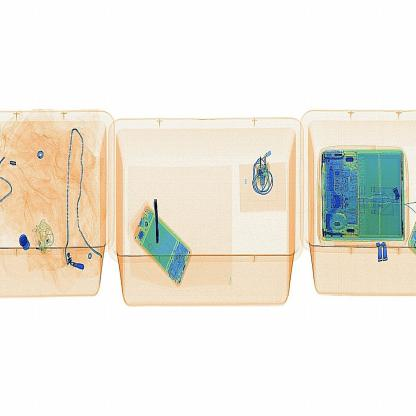knife: (145, 186, 170, 254)
